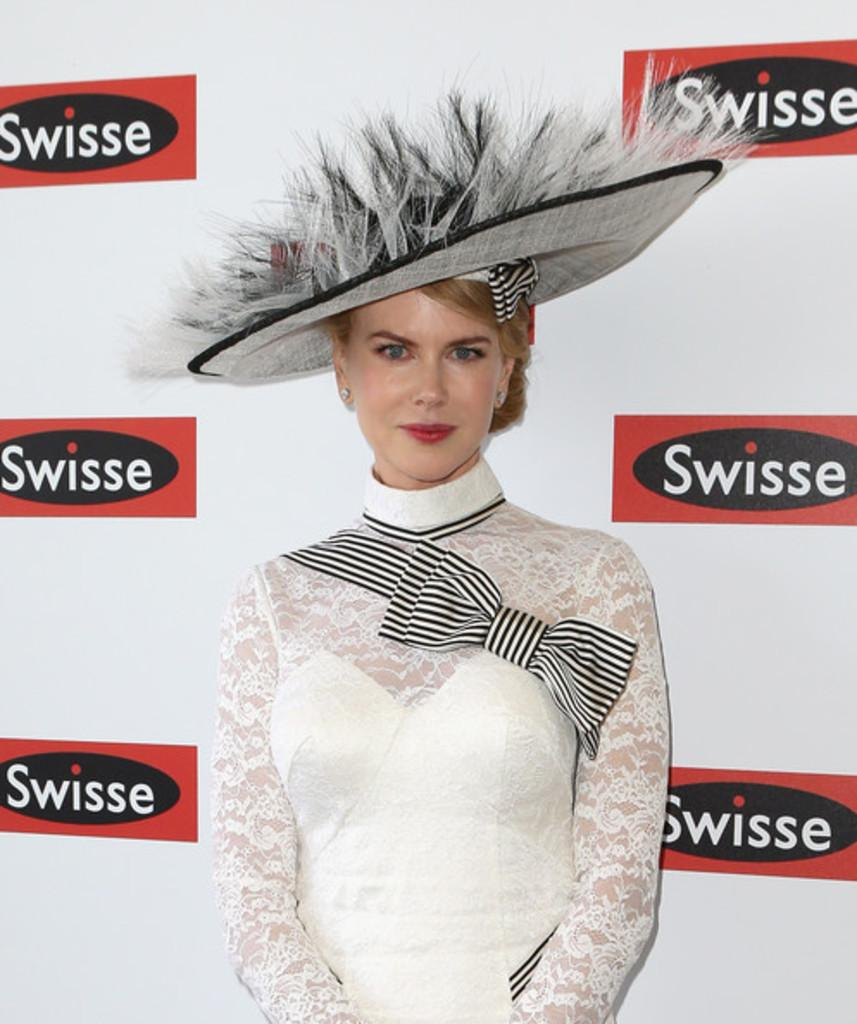Hat: (135, 51, 758, 384)
